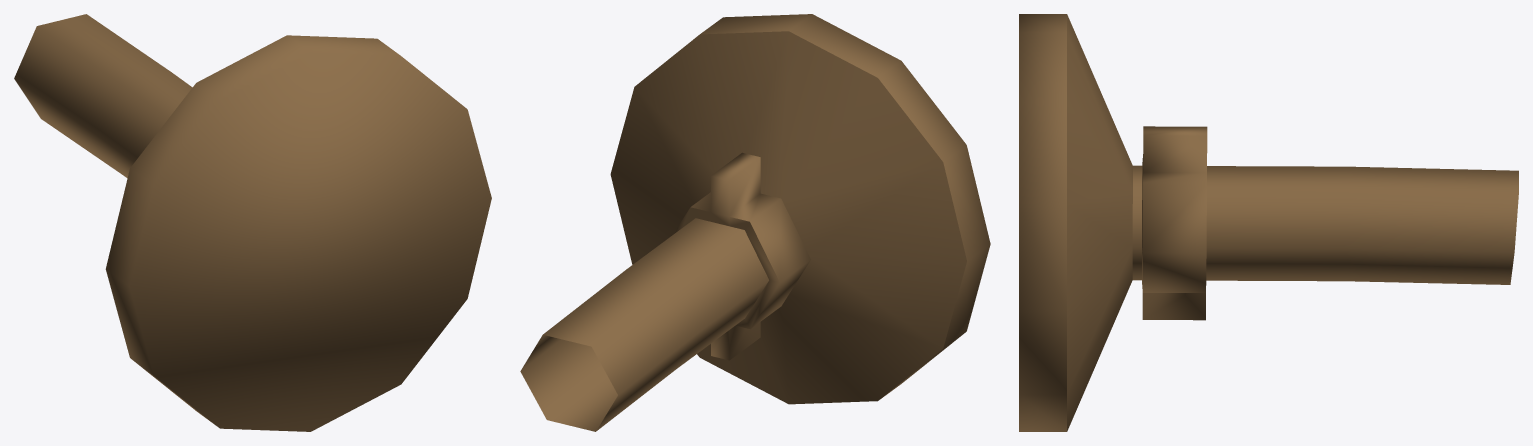
The model's file is WallDecoA.fbx.
The picture shows the model from 3 angles, left to right: view 1: azimuth 30°, elevation 25°; view 2: azimuth 150°, elevation 25°; view 3: azimuth 270°, elevation 25°; orthographic projection.
Visible parts, largest first — view 1: WallDecoA; view 2: WallDecoA; view 3: WallDecoA.
Part boxes in pixels (x1=…): WallDecoA: x1=14, y1=14, x2=491, y2=431; WallDecoA: x1=520, y1=14, x2=990, y2=431; WallDecoA: x1=1019, y1=14, x2=1518, y2=431.
Size of the model in its own units: 0.8749 by 0.8749 by 1.04.
